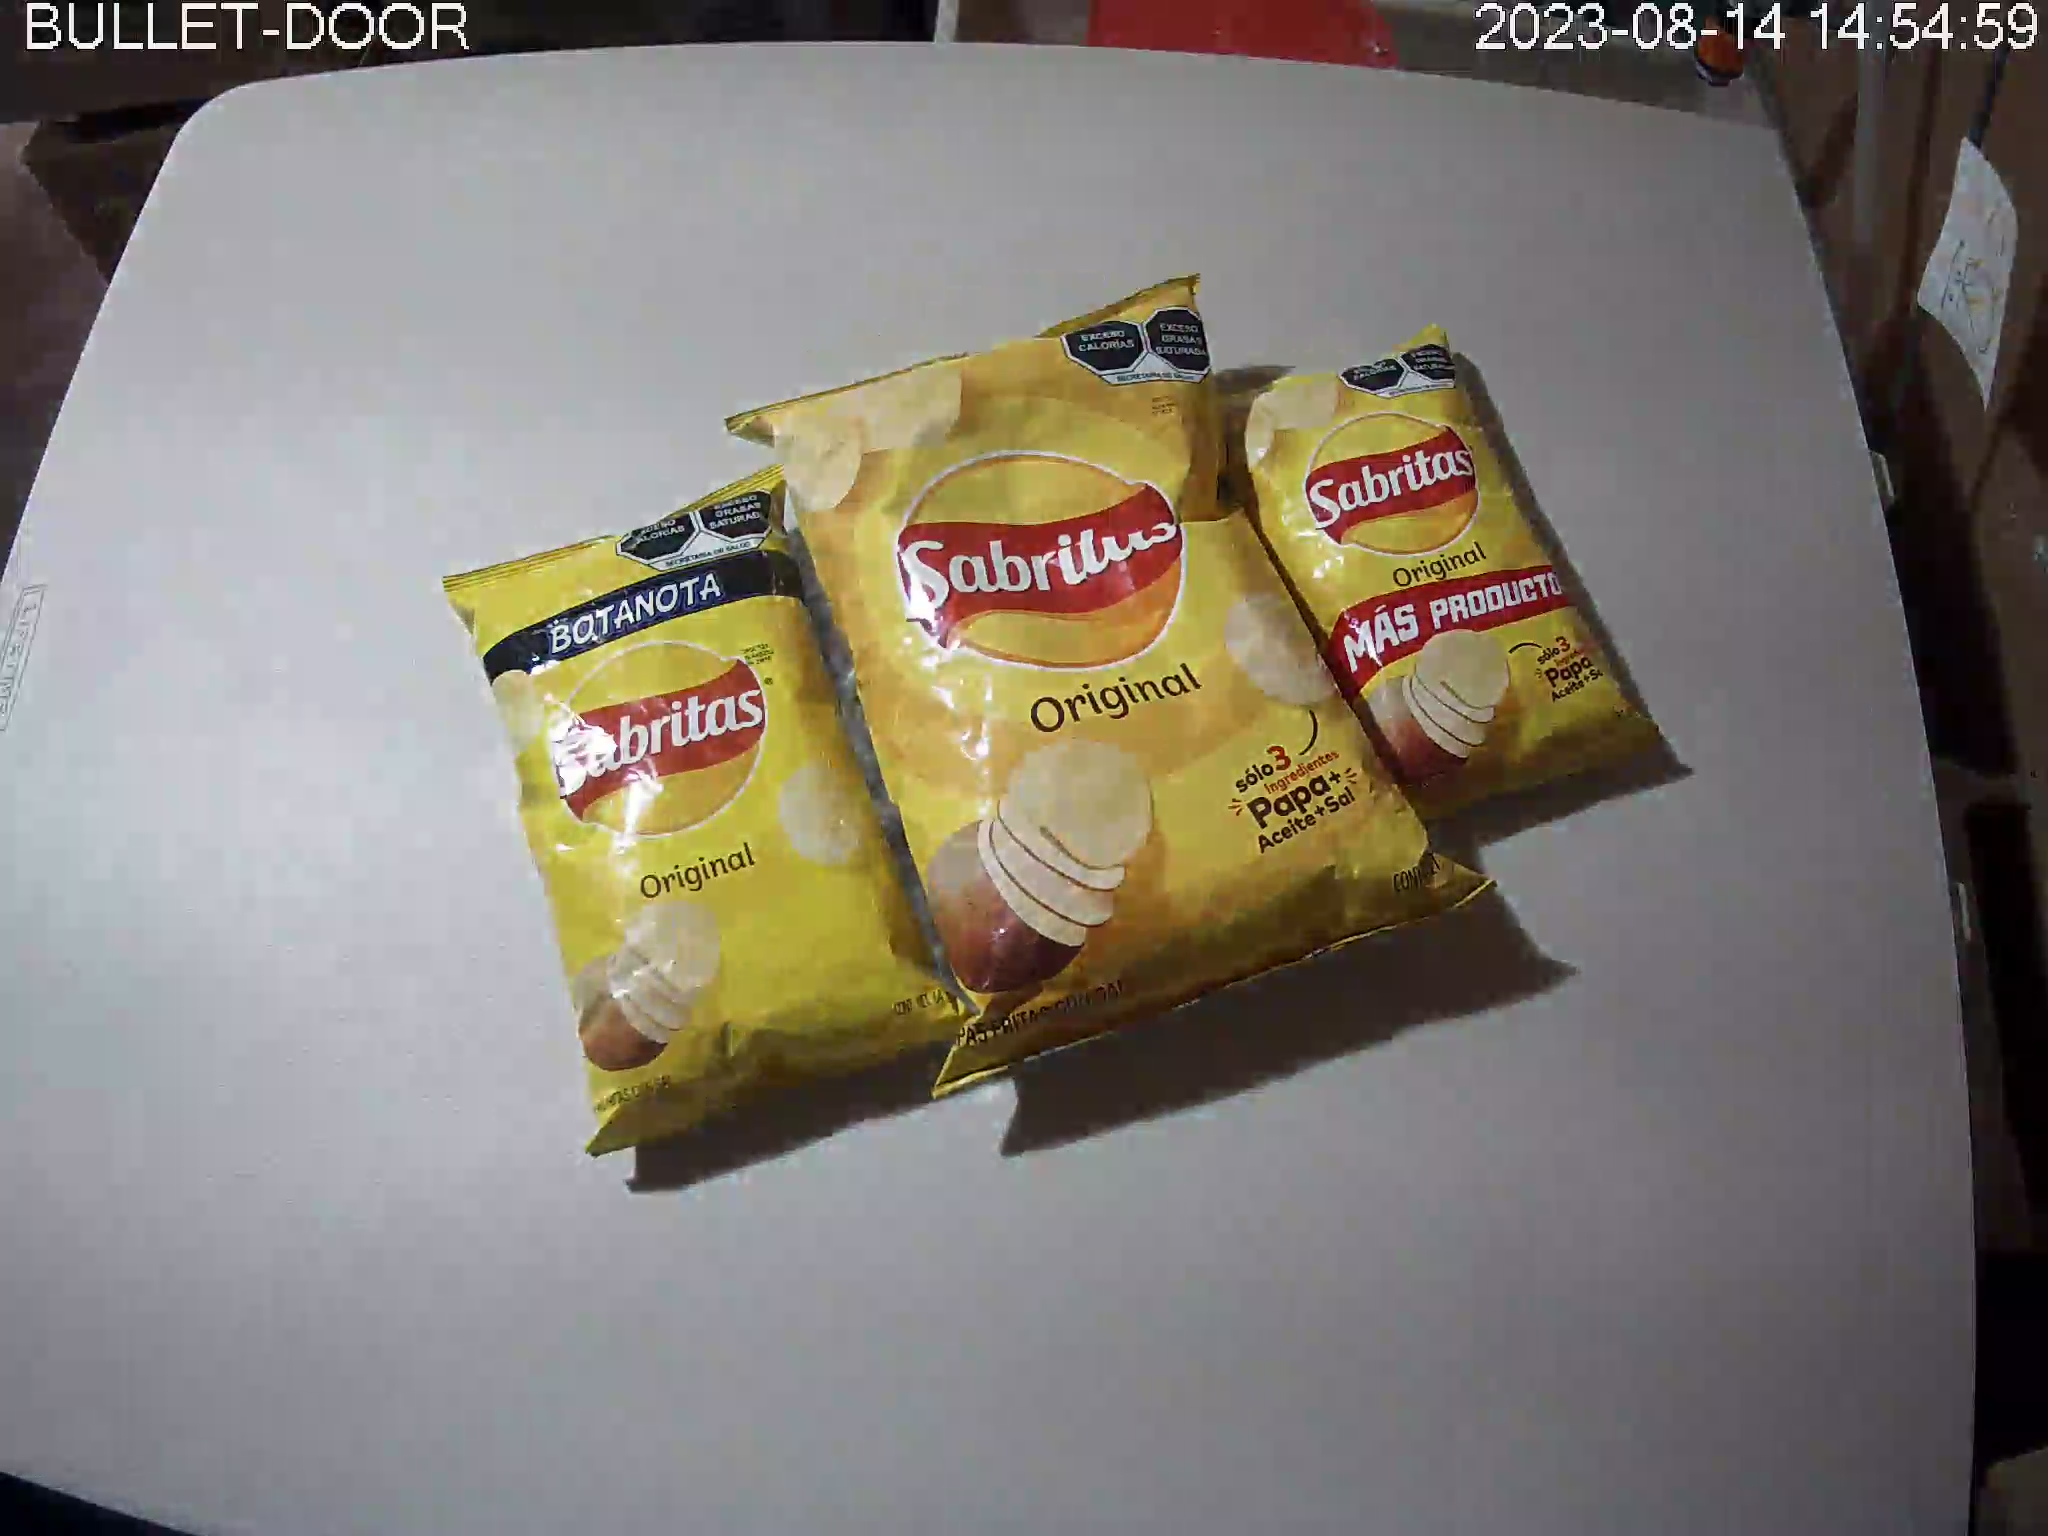Sabritas_160_F: (722, 274, 1500, 1104)
Sabritas_45_F: (1192, 323, 1667, 829)
Sabritas_64_F: (440, 465, 984, 1158)
